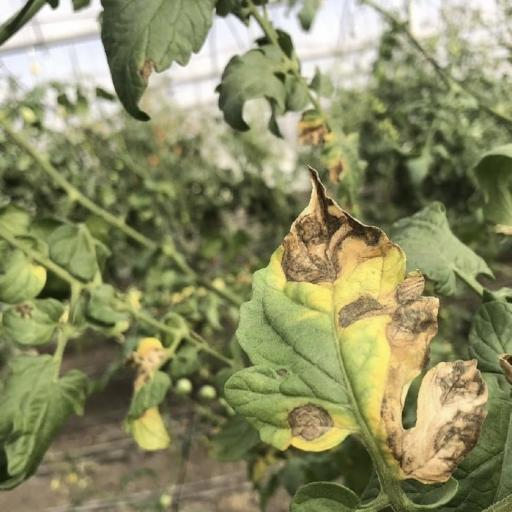disease_tomato: (221, 164, 445, 454)
